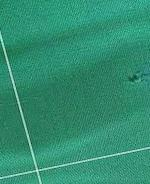knot: (126, 69, 148, 89)
